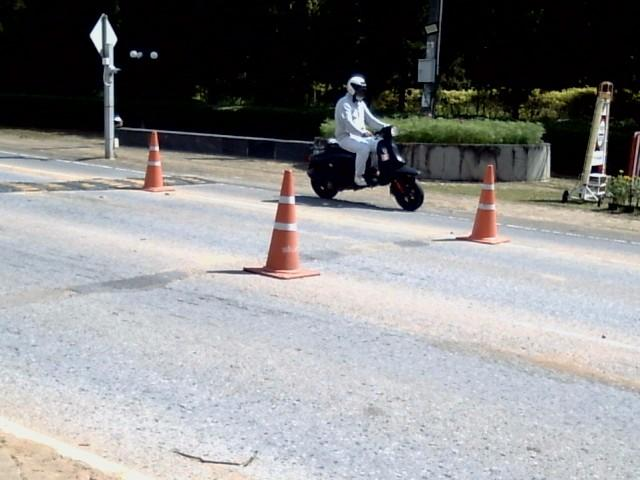helmet: (346, 72, 365, 98)
motor: (366, 126, 422, 210), (307, 137, 364, 198)
person: (335, 76, 387, 185)
